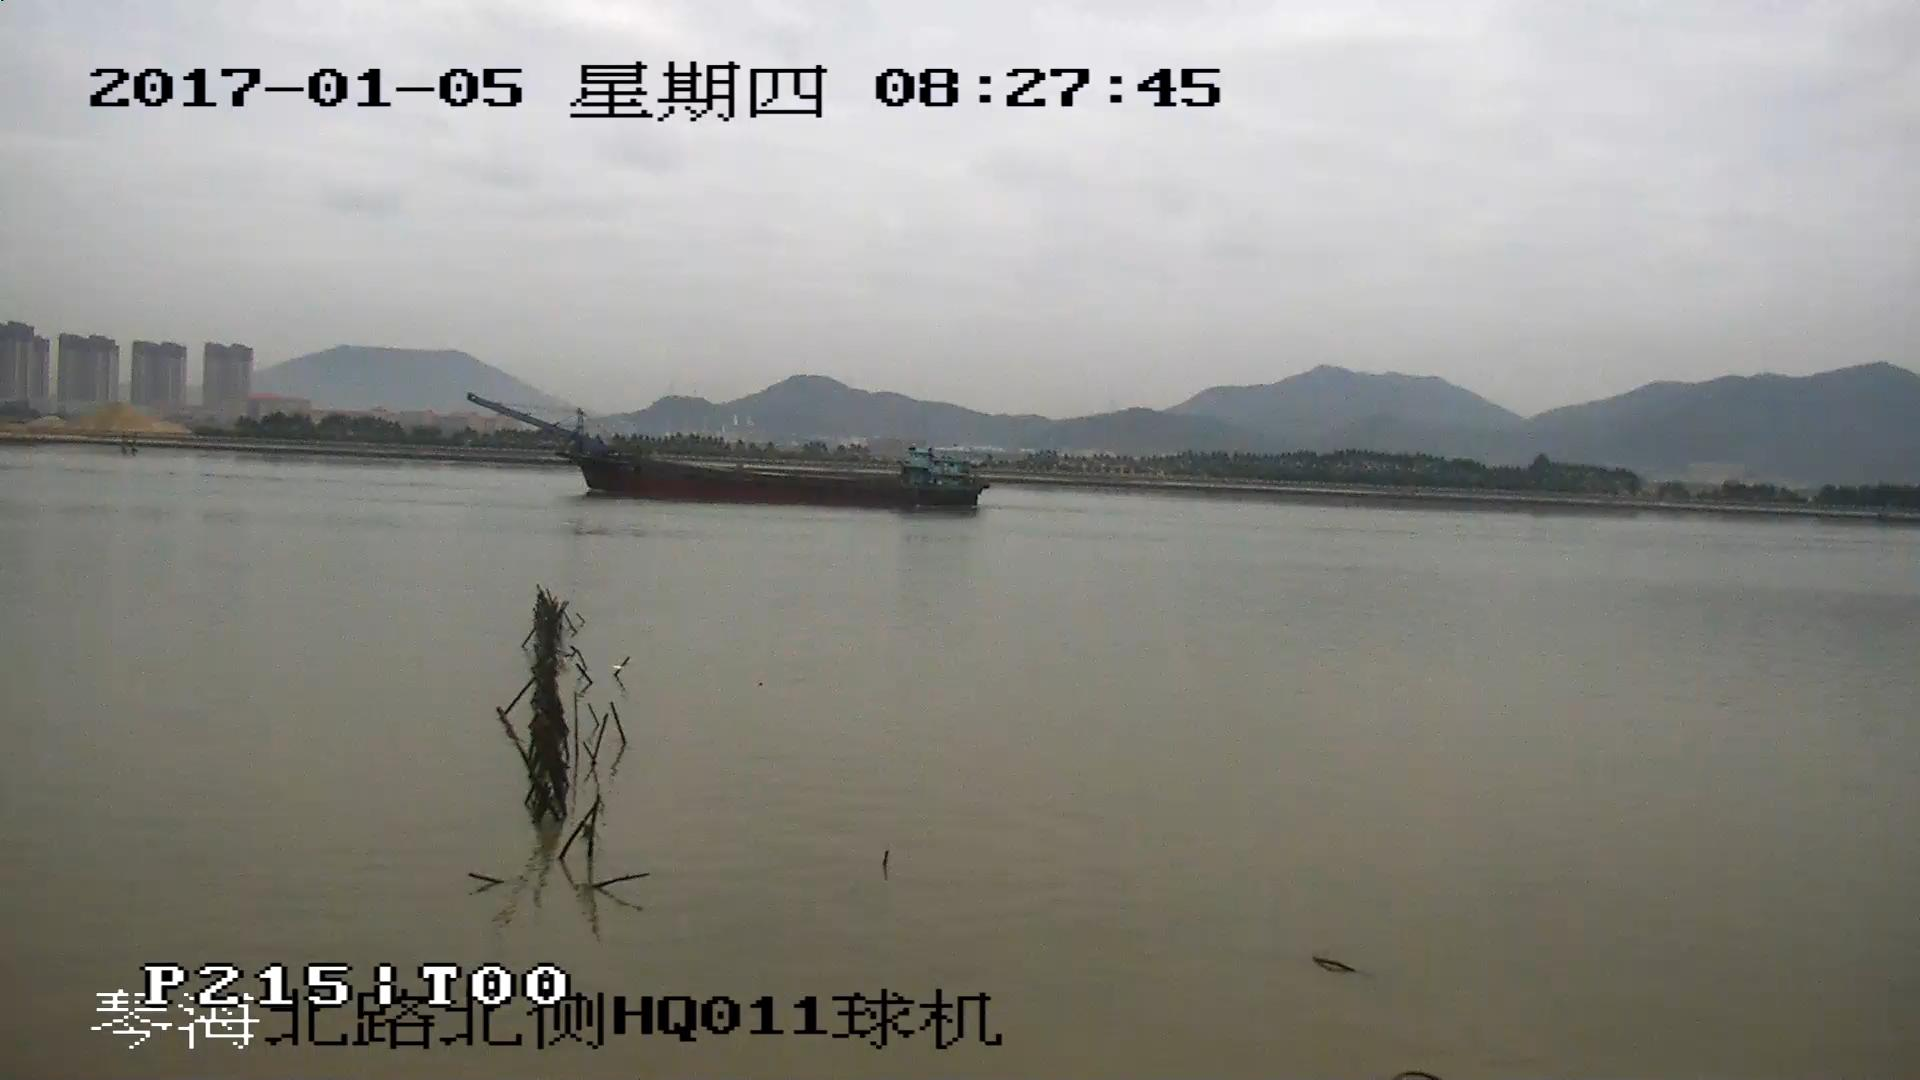bulk cargo carrier: (468, 396, 993, 508)
